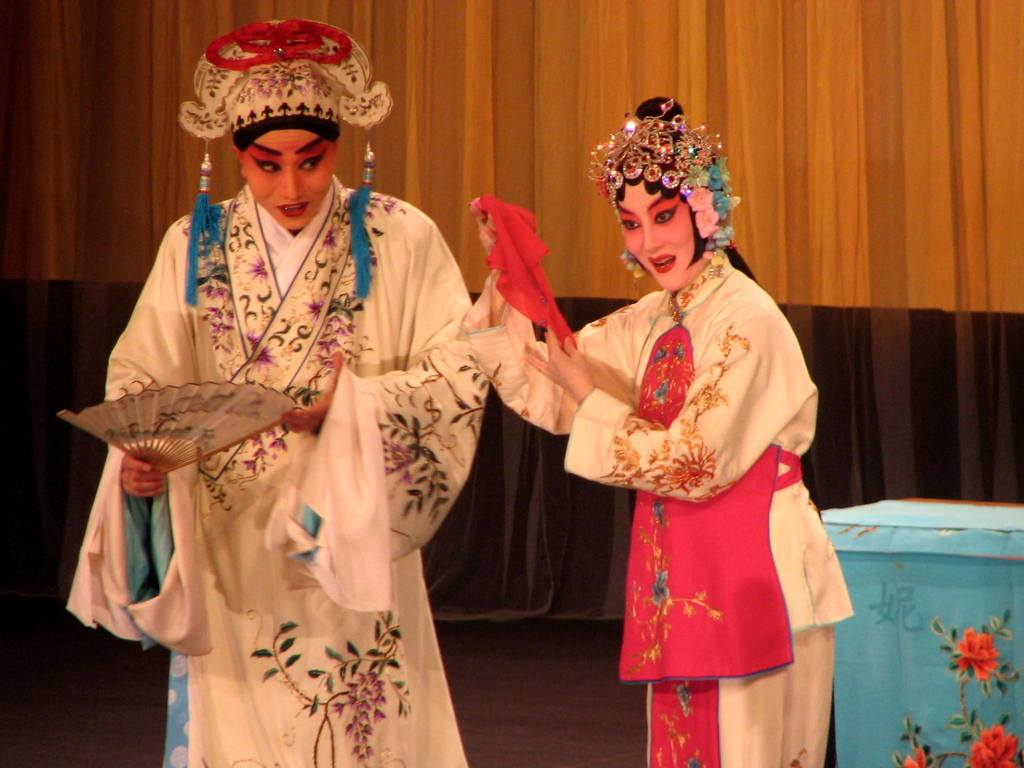Person: (56, 18, 490, 768)
